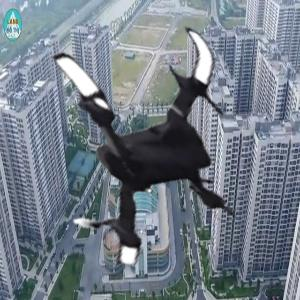drone: (11, 18, 285, 292)
